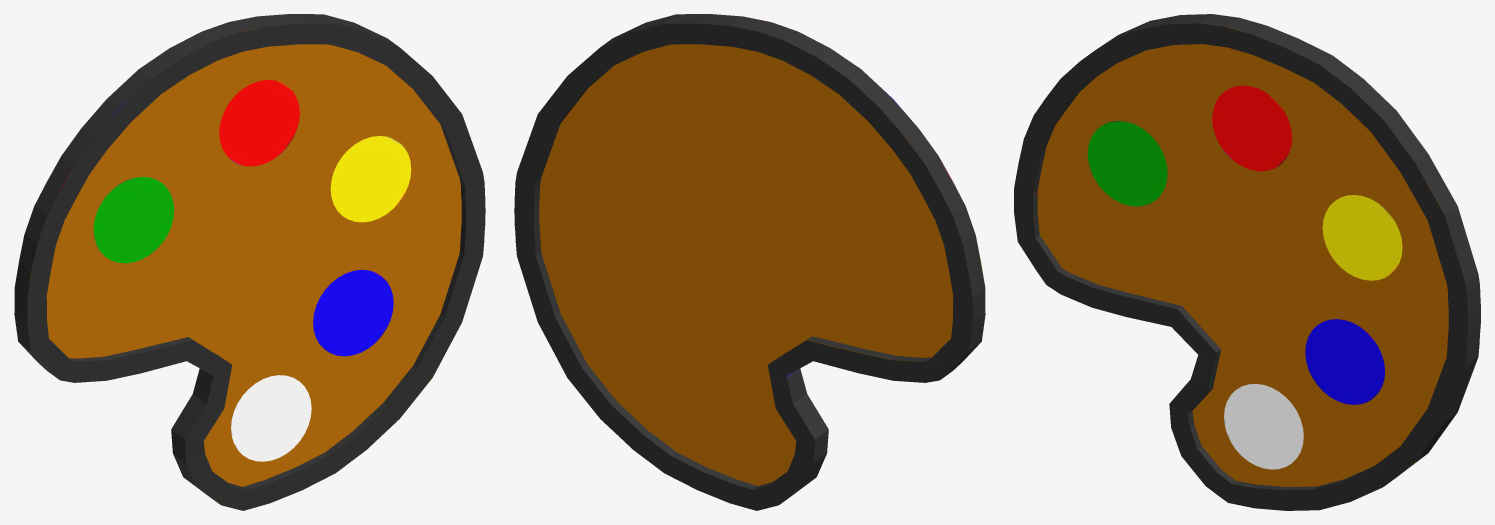
File: Design_badge.glb
3 renders of one model, left to right at view 1: azimuth 30°, elevation 25°; view 2: azimuth 150°, elevation 25°; view 3: azimuth 330°, elevation 25°, orthographic.
Parts seen in each view (by area): view 1: Design Badge; view 2: Design Badge; view 3: Design Badge.
Part boxes in pixels (x1,y1,x2,y2): Design Badge: (14,14,485,510); Design Badge: (514,14,985,510); Design Badge: (1014,14,1480,510).
Size of the model in its own units: 0.0832 by 0.0833 by 0.00441.
Materials: 1 (1 with a texture image).
